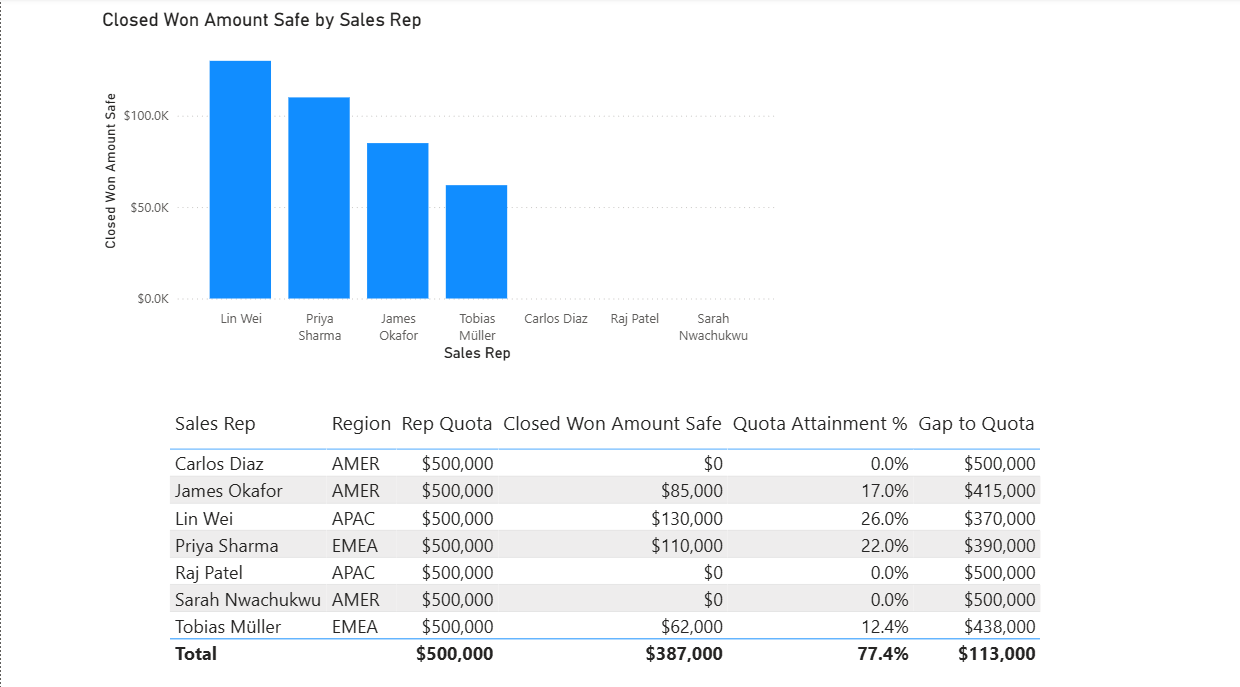

The dashboard page shown, as its layout file describes it:
{"tool":"powerbi","page":{"name":"Quota Attainment","canvas":[1280,720],"ordinal":1},"visuals":[{"type":"clusteredColumnChart","fields":{"Category":["PBI Data Model.Sales Rep"],"Y":["PBI Data Model.Closed Won Amount Safe"]},"box":[99.5,11.5,706.4,369],"z":0},{"type":"tableEx","fields":{"Values":["PBI Data Model.Sales Rep","PBI Data Model.Region","PBI Data Model.Rep Quota","PBI Data Model.Closed Won Amount Safe","PBI Data Model.Quota Attainment %","PBI Data Model.Gap to Quota"]},"box":[168.7,419.5,1035.1,299.8],"z":1000}]}

Visuals, with their boxes in screenshot pixels (x1, y1, x2, y2), scaled from the page's 1280x720 canvas onto the 1240x687 screenshot:
clusteredColumnChart - PBI Data Model.Sales Rep x PBI Data Model.Closed Won Amount Safe: [96, 11, 781, 363]
tableEx - PBI Data Model.Sales Rep x PBI Data Model.Region: [163, 400, 1166, 686]
